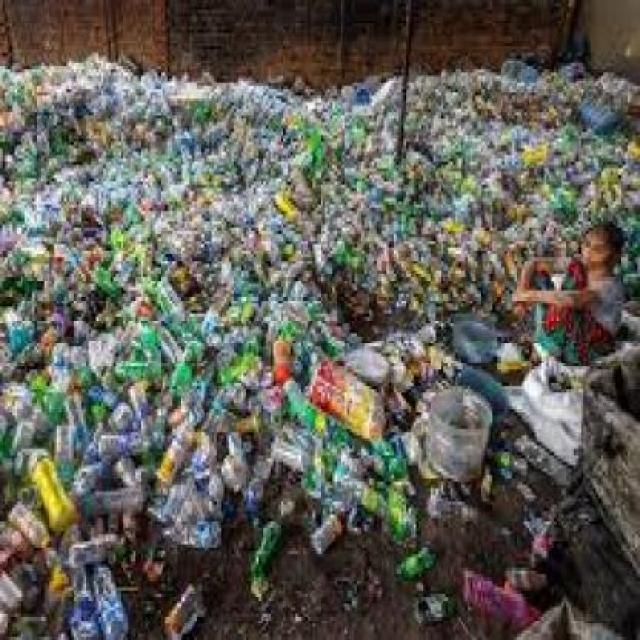garbage: (0, 32, 519, 636), (529, 346, 638, 636), (528, 40, 639, 234)
